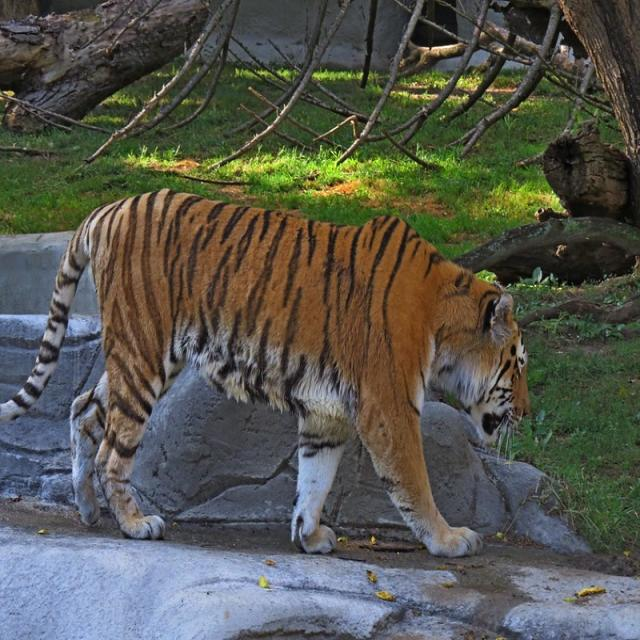Tiger: (17, 177, 543, 560)
